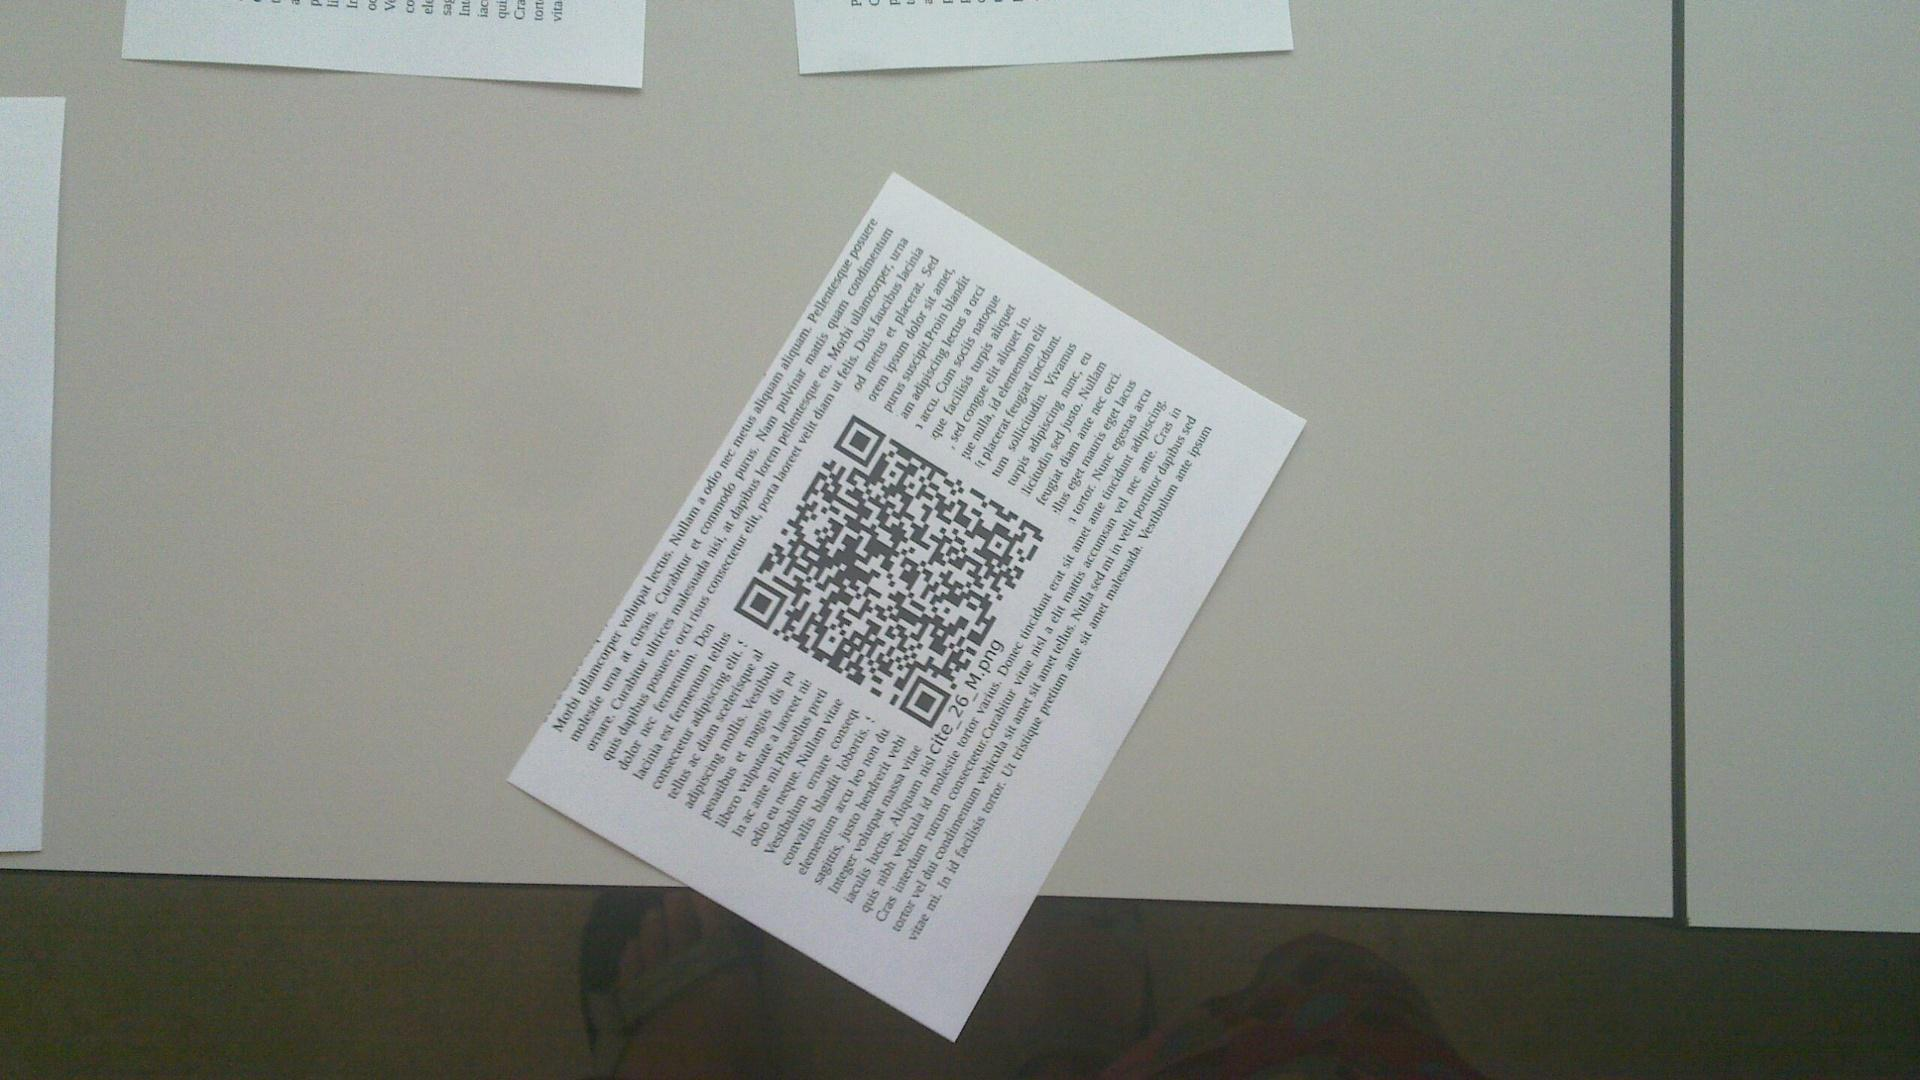Finder pattern: (736, 574, 786, 632), (833, 411, 885, 465), (898, 675, 949, 729)
